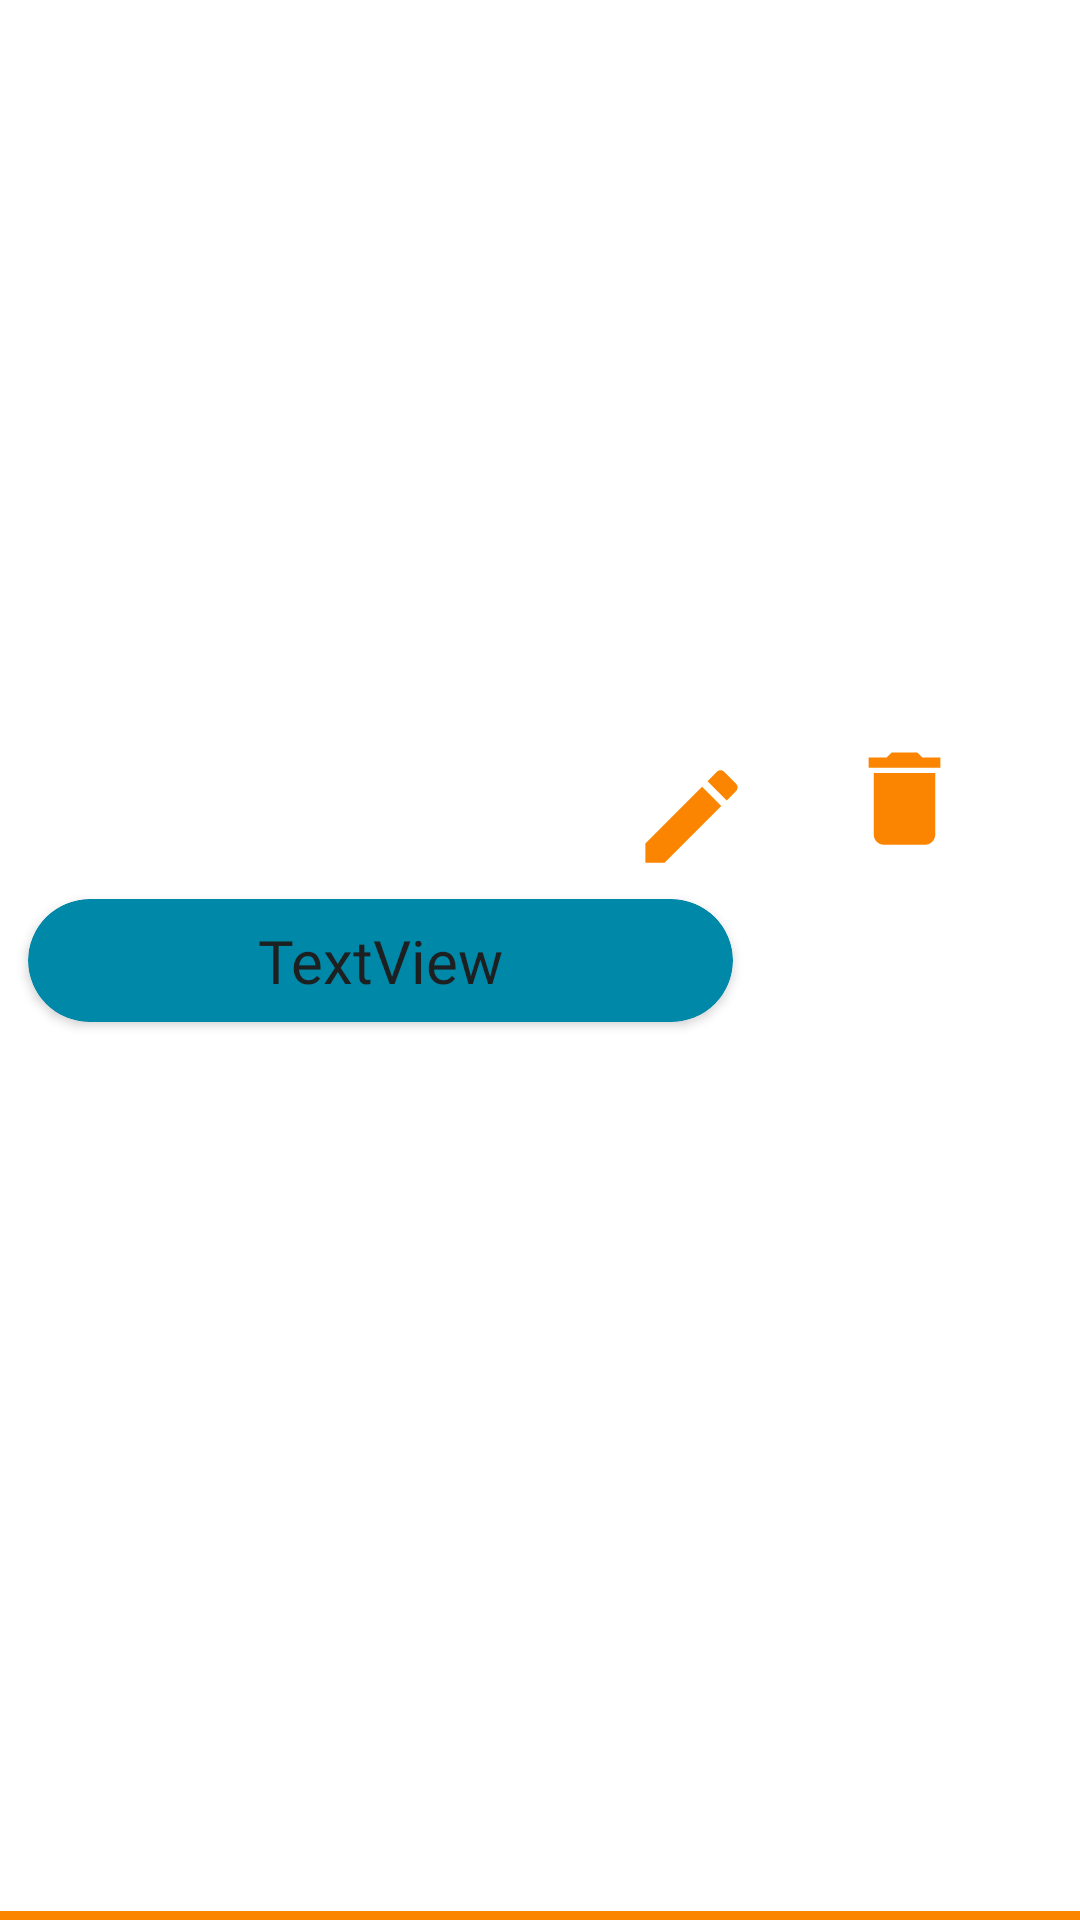

Icon click points for this 1080*1920 phone screenshot, format point (x, y):
deletebtn: point (904, 798)
edit: point (691, 816)
